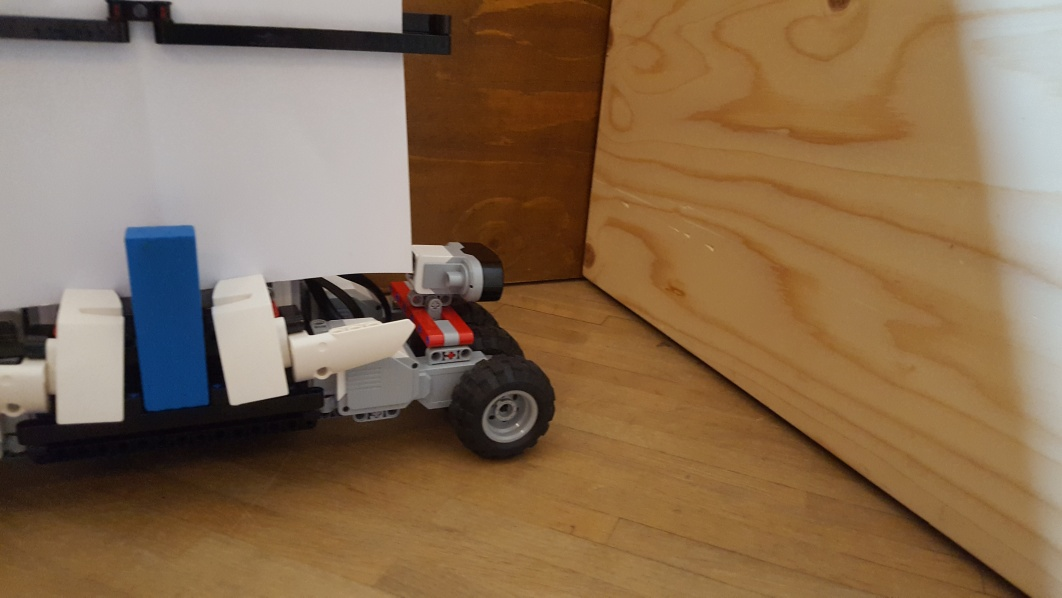car: (3, 2, 556, 462)
